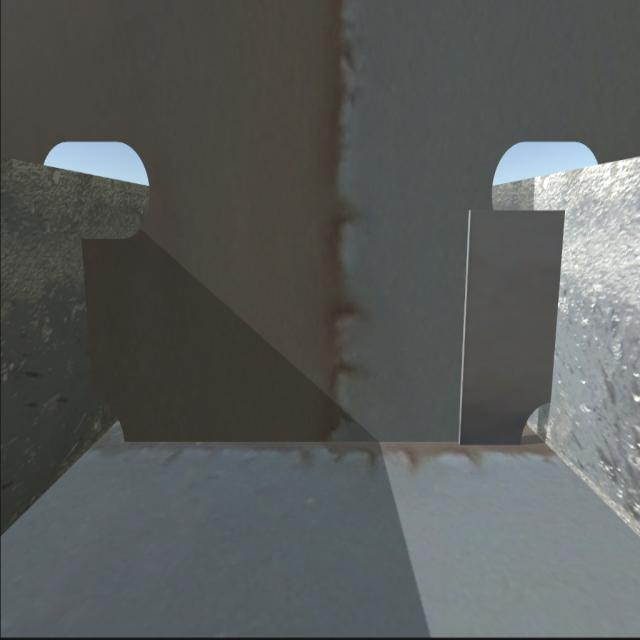fillet_hole: (88, 397, 126, 446), (521, 401, 552, 445)
fillet_yong_jeop_jang: (124, 435, 521, 458)
longi_yong_jeop_jang: (550, 211, 569, 403), (76, 244, 95, 397)
plate_CP01: (465, 210, 556, 443)
